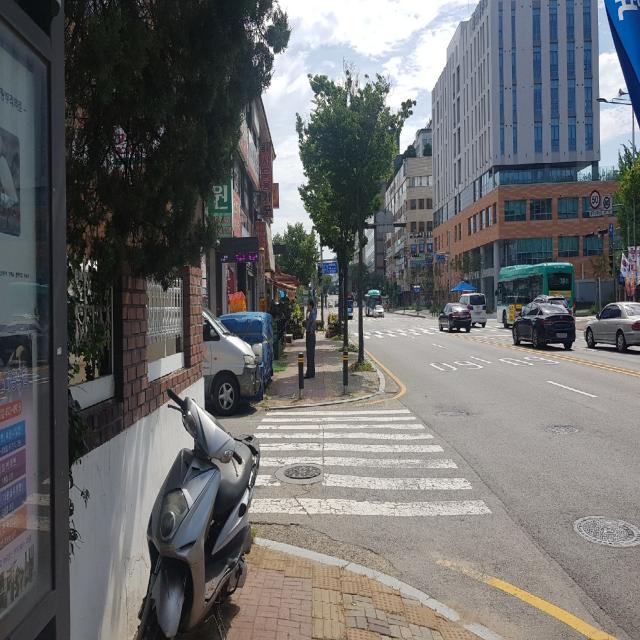횡단보도: (248, 407, 493, 518), (356, 326, 438, 341)
